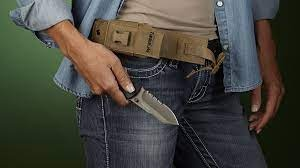knife: (101, 61, 181, 128)
